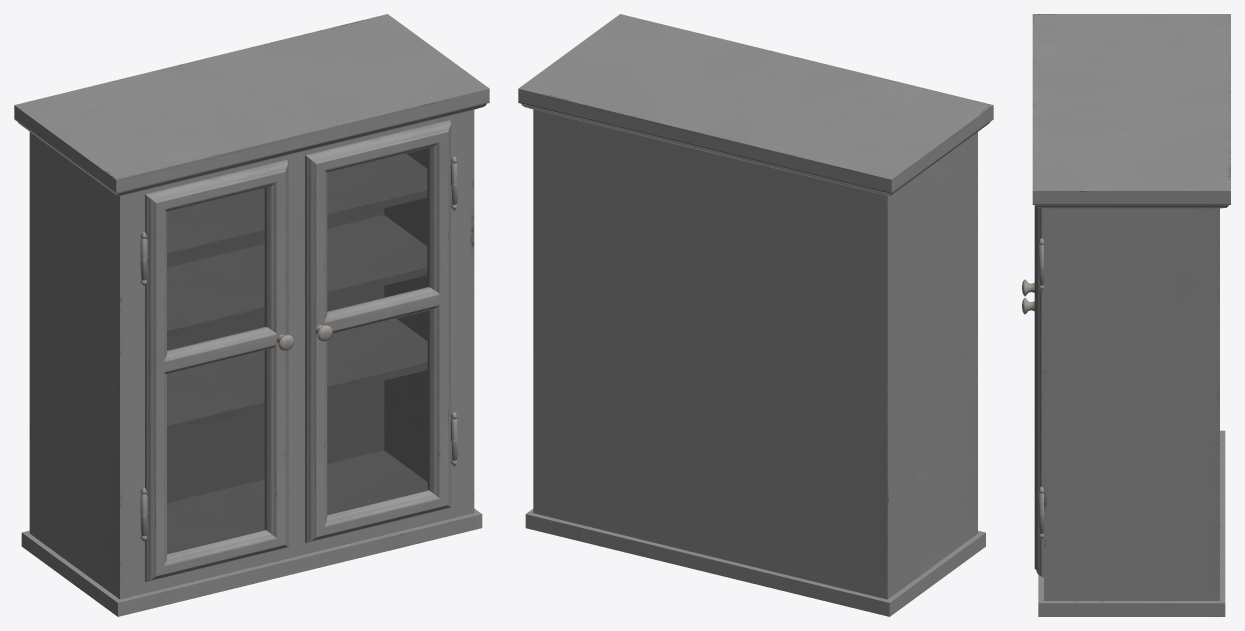
Rendered from kitchen_cupboard2.glb.
The picture shows the model from 3 angles, left to right: view 1: azimuth 30°, elevation 25°; view 2: azimuth 150°, elevation 25°; view 3: azimuth 270°, elevation 25°; orthographic projection. The views are drawn at different scales.
Visible parts, largest first — view 1: Cupboard_Kitchen_B_7; view 2: Cupboard_Kitchen_B_7; view 3: Cupboard_Kitchen_B_7.
Part boxes in pixels (bbox=[...]): Cupboard_Kitchen_B_7: bbox=[14, 14, 489, 616]; Cupboard_Kitchen_B_7: bbox=[518, 14, 993, 616]; Cupboard_Kitchen_B_7: bbox=[1022, 14, 1230, 616].
Size of the model in its own units: 1.28 by 1.44 by 0.6353.
2 materials, 1 textured.
